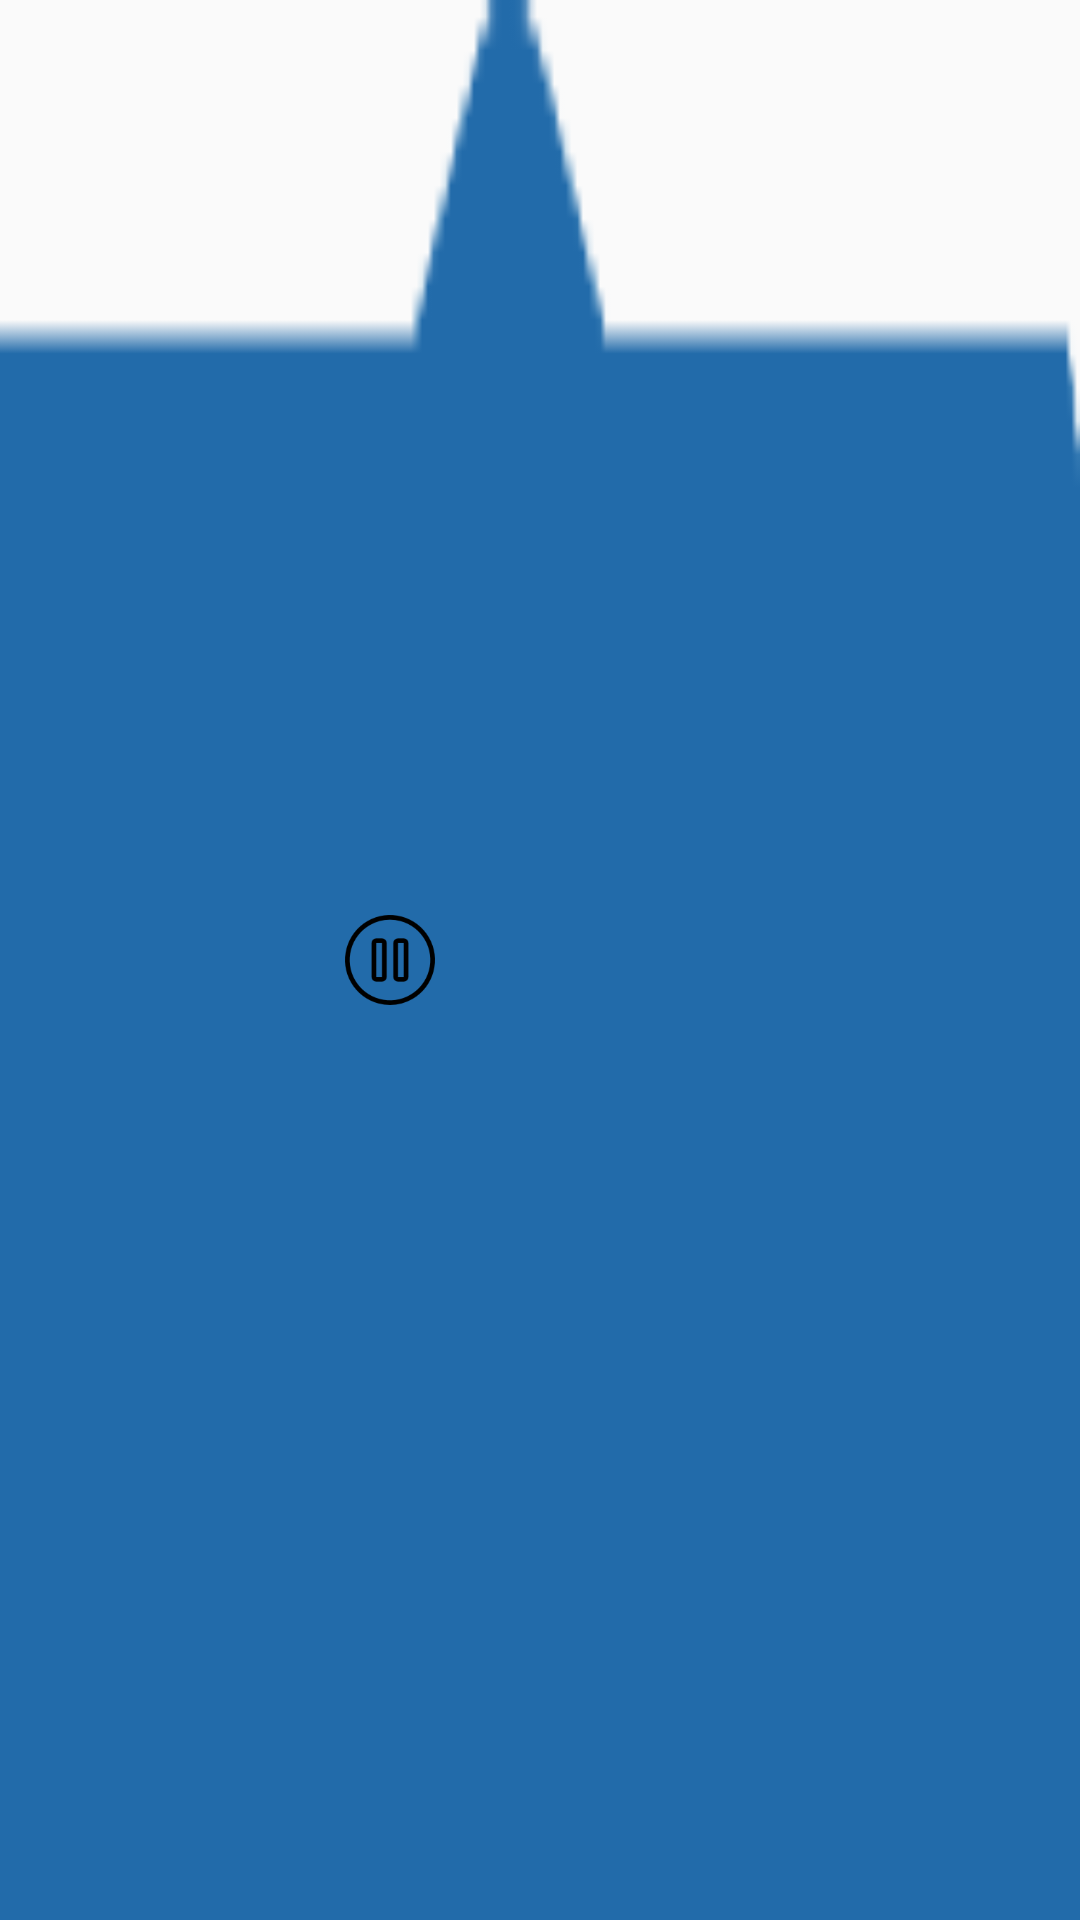

Icons on this 1080px x 1920px Android screen, each with its box as [x1=x1, y1=y1, x2=x2, y2=y2]:
pause: [x1=345, y1=915, x2=435, y2=1005]
